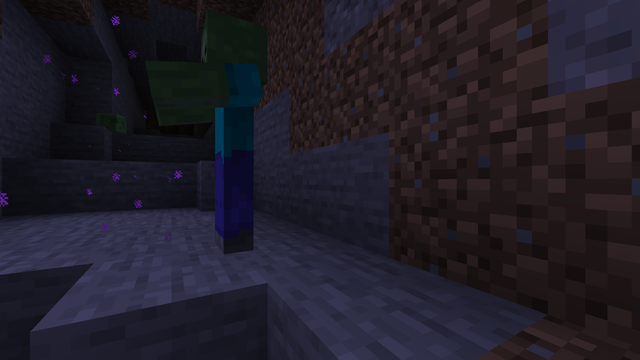slimes: (98, 111, 124, 134)
zombies: (195, 9, 274, 258)
